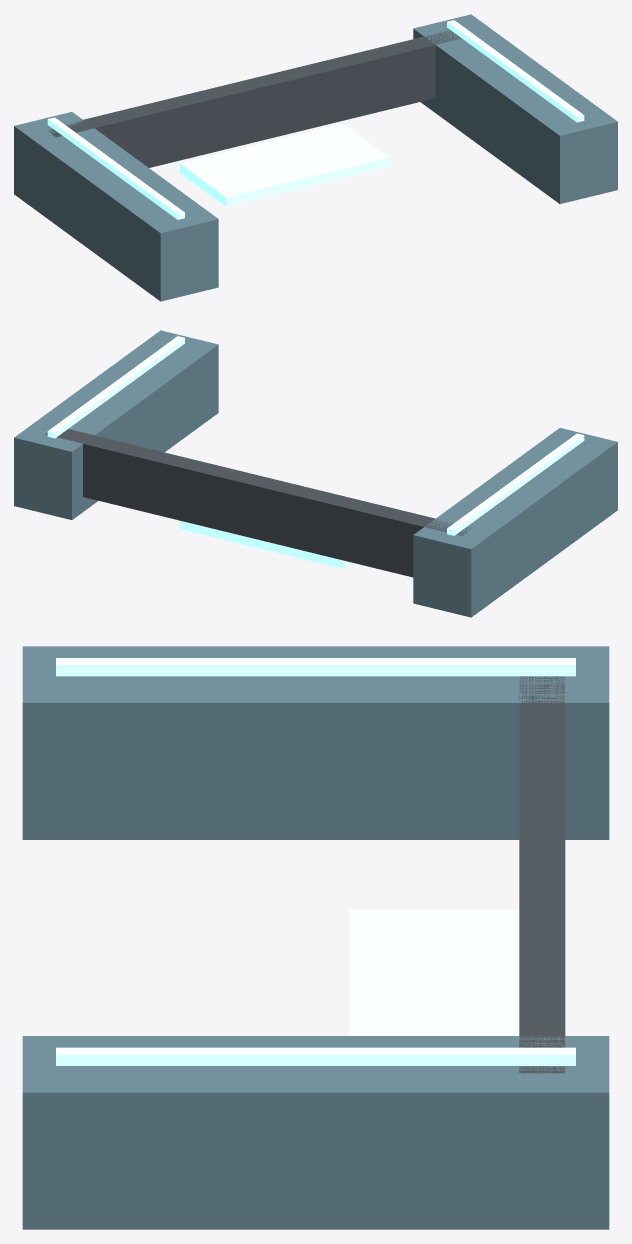
Rendered from interact_finish_frame_yard.glb.
3 views of the same model, one above another, from view 1: azimuth 30°, elevation 25°; view 2: azimuth 150°, elevation 25°; view 3: azimuth 270°, elevation 25° (orthographic). The views are drawn at different scales.
Visible parts, largest first — view 1: interact_finish_frame_yard; view 2: interact_finish_frame_yard; view 3: interact_finish_frame_yard.
Part boxes in pixels (x1,y1,x2,y2): interact_finish_frame_yard: (14, 14, 617, 301); interact_finish_frame_yard: (14, 330, 617, 617); interact_finish_frame_yard: (22, 646, 609, 1229).
Bounding box in the file's own units: 12.6 × 2 × 7.
